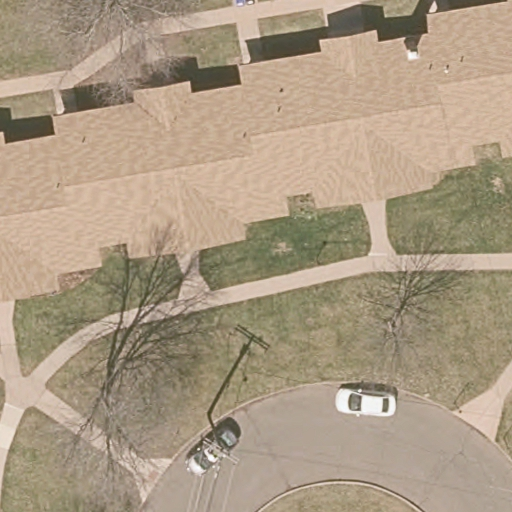DT: (202, 412, 241, 465)
